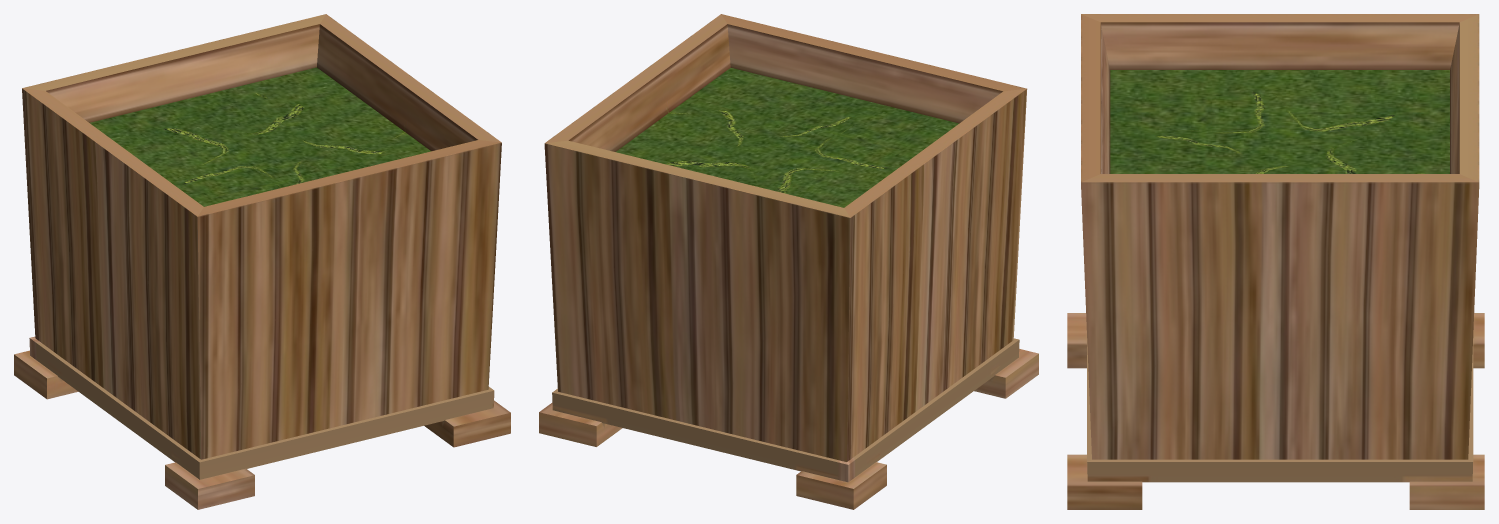
The model's file is Timber_Plant_Pot.glb.
The picture shows the model from 3 angles, left to right: view 1: azimuth 30°, elevation 25°; view 2: azimuth 150°, elevation 25°; view 3: azimuth 270°, elevation 25°; orthographic projection. The views are drawn at different scales.
Parts seen in each view (by area): view 1: polySurface10; view 2: polySurface10; view 3: polySurface10.
Part boxes in pixels (bbox=[...]): polySurface10: bbox=[14, 14, 510, 509]; polySurface10: bbox=[539, 14, 1038, 509]; polySurface10: bbox=[1067, 14, 1484, 509].
Bounding box in the file's own units: 52.29 × 45.86 × 53.24.
Materials: 1 (1 with a texture image).
